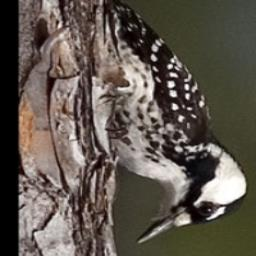Woodpecker: (89, 0, 255, 246)
